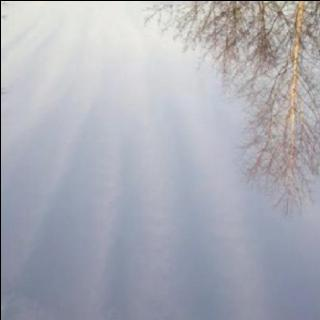Cirrus: (0, 44, 235, 320)
